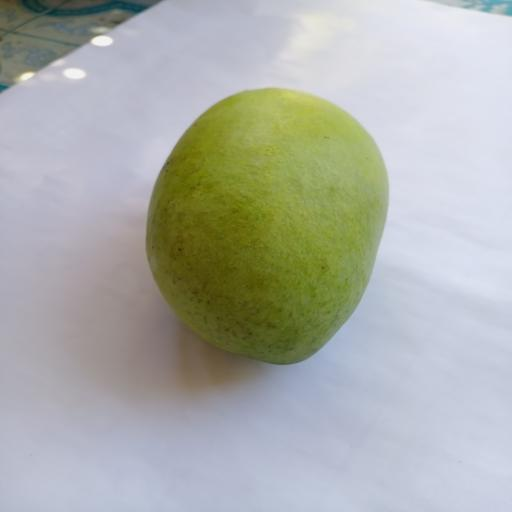mango-unripe: (143, 73, 407, 380)
